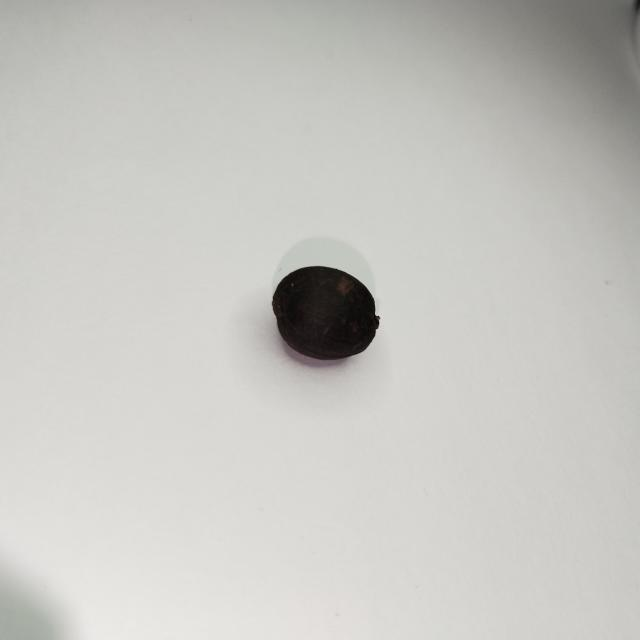Danado: (272, 266, 380, 361)
